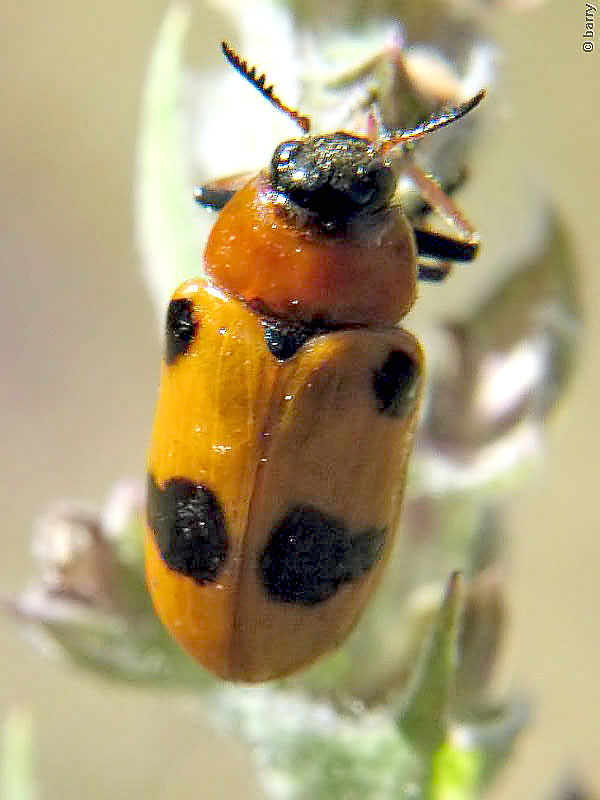Tituboea_macropus: (127, 35, 502, 708)
